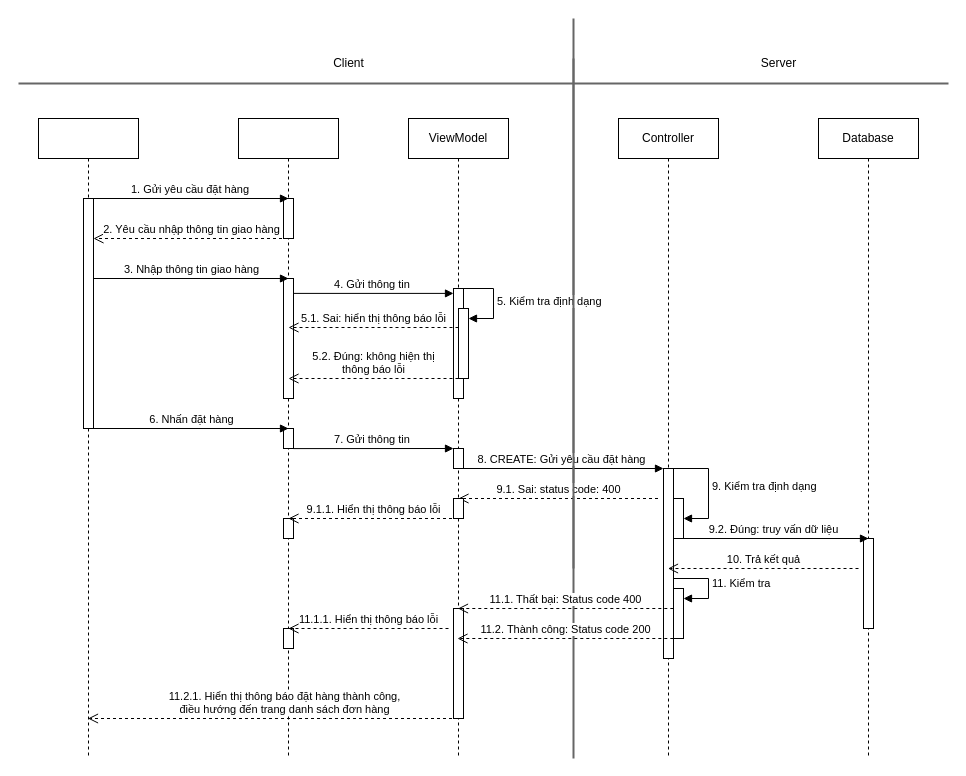
This 966x776 diagram has some shape labels left out. The shapes that lost their labels are listed below. From the top down, each one's centre as x and y in pixels, then its label:
the point at 88,438: Khách hàng
the point at 288,438: Form
